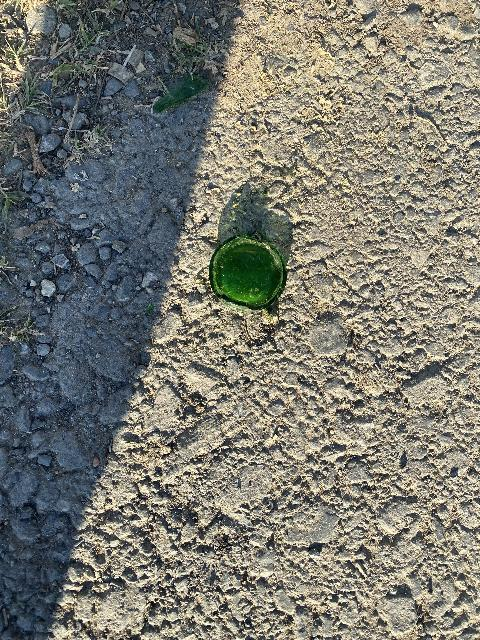Cam: (213, 229, 294, 311)
